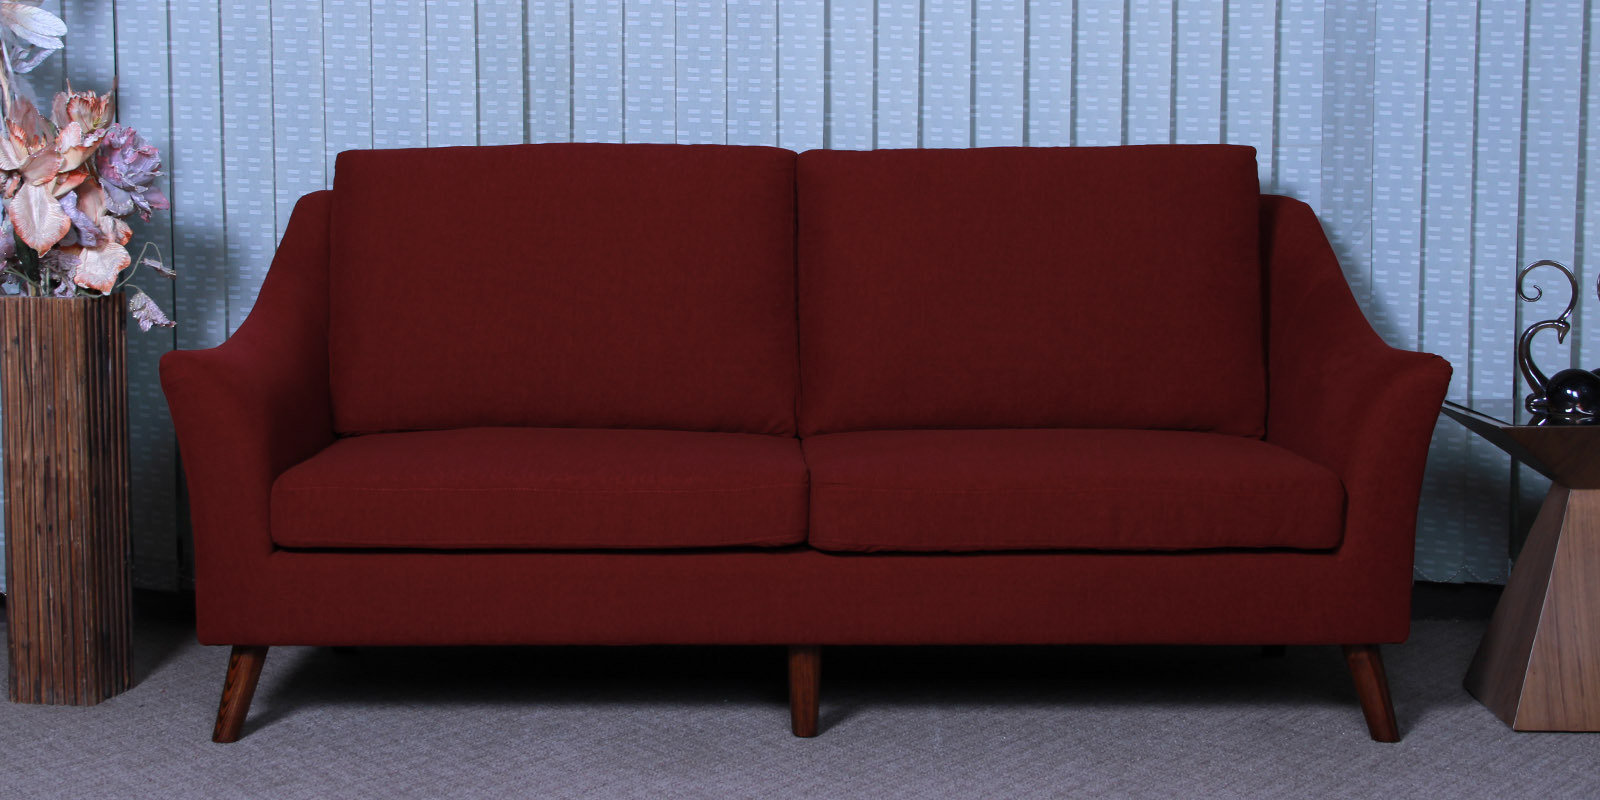Juan Three Seater Sofa in Garnet Red Colour by CasaCraft: (158, 134, 1455, 760)
